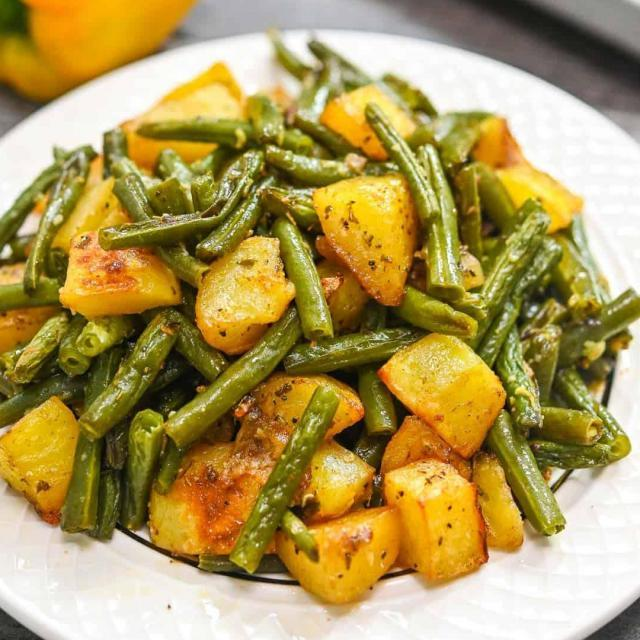Beans: (0, 36, 639, 610)
